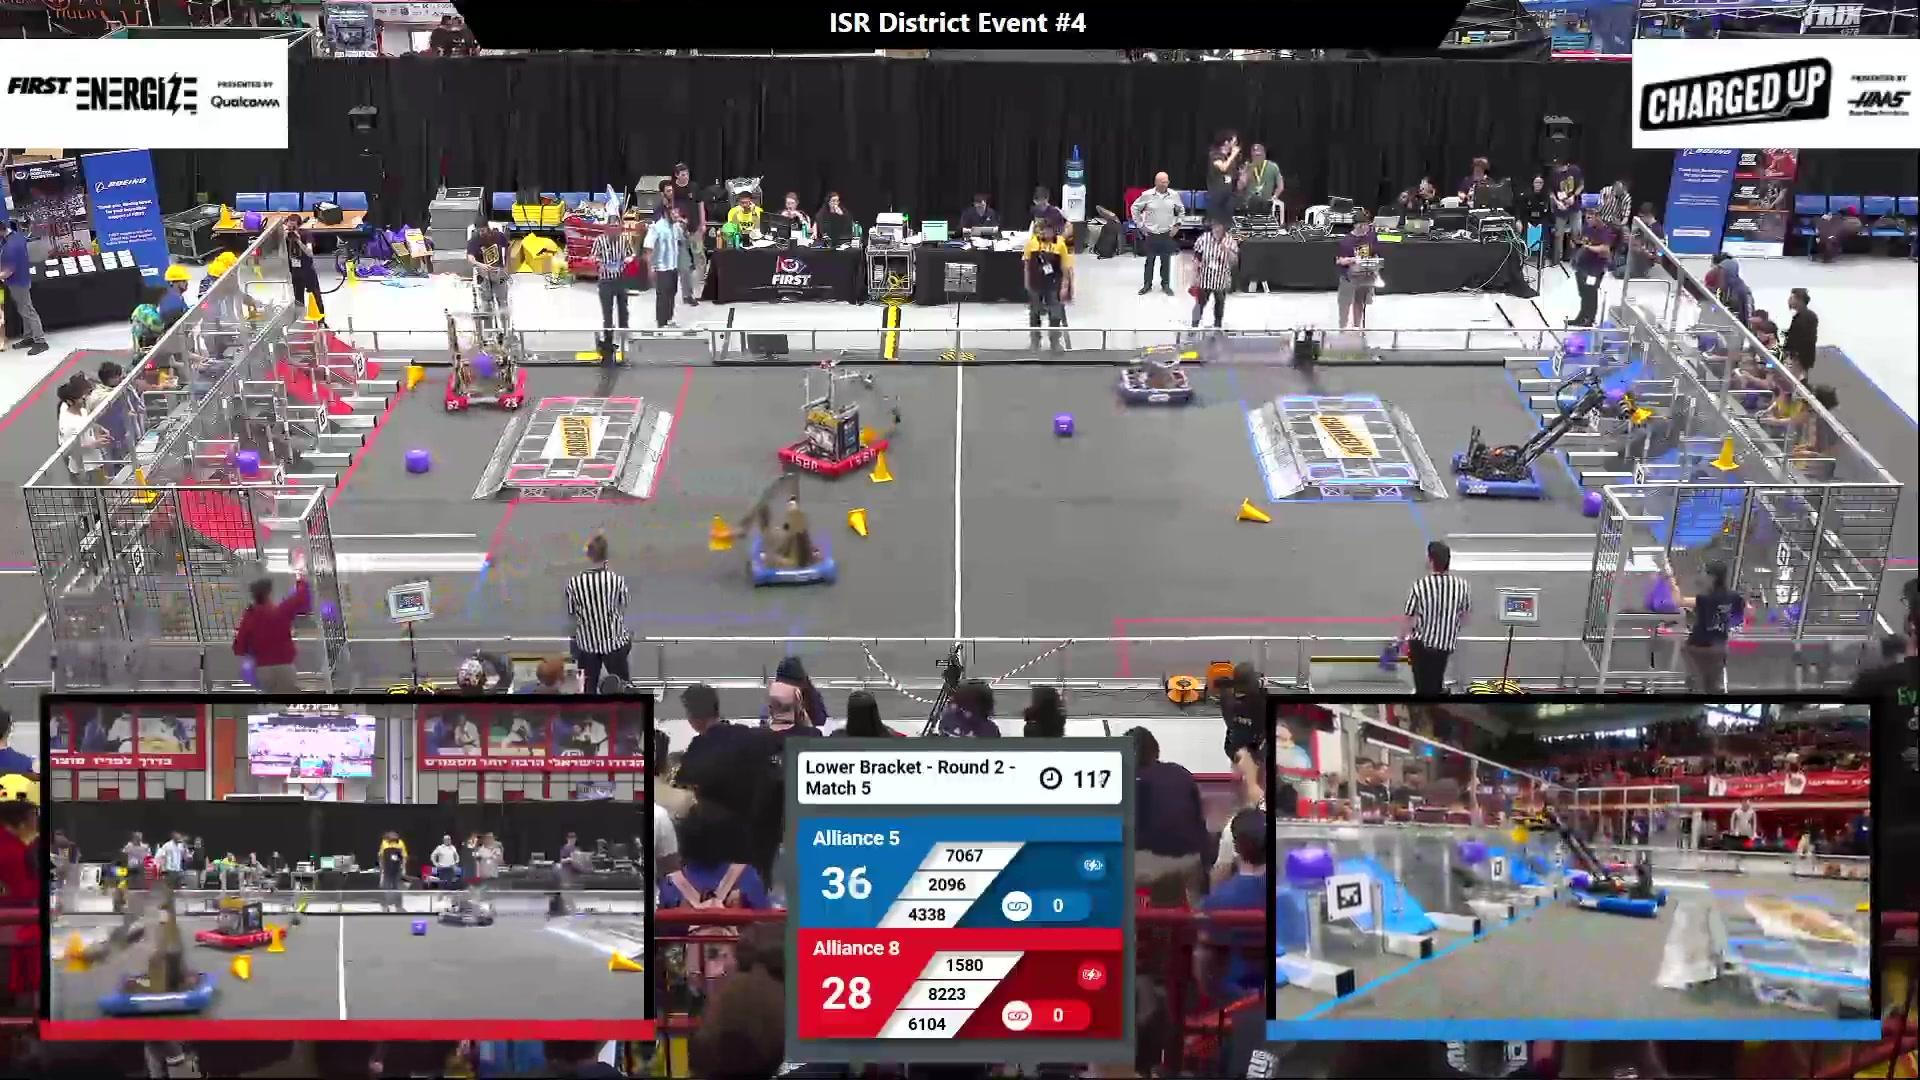robot: (161, 905, 270, 1011), (431, 305, 533, 413), (775, 377, 884, 473), (1565, 836, 1669, 916), (793, 488, 881, 582), (1452, 418, 1538, 497), (1079, 353, 1159, 406), (223, 899, 280, 947)
